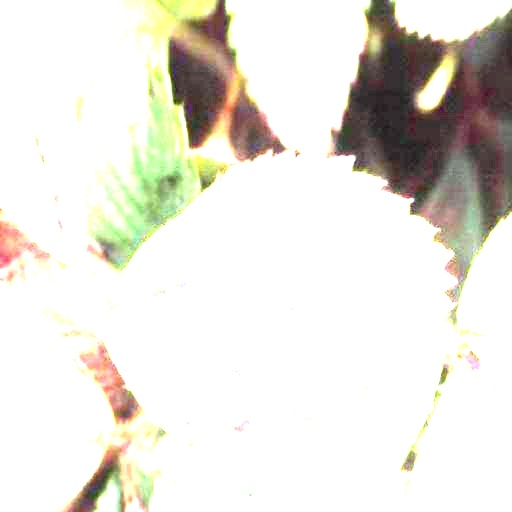Leaf Spot: (98, 146, 458, 448), (0, 282, 116, 511), (225, 0, 371, 155), (397, 0, 511, 41)
